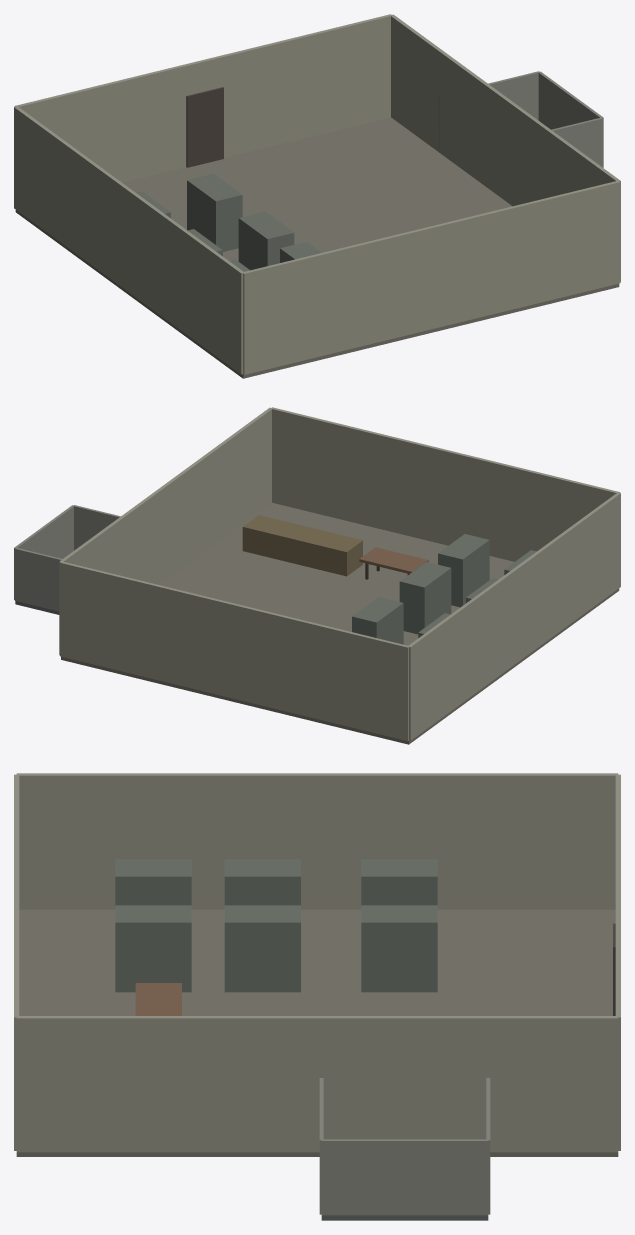
Rendered from depositoMateriales.obj.
3 renders of one model, top to bottom at view 1: azimuth 30°, elevation 25°; view 2: azimuth 150°, elevation 25°; view 3: azimuth 270°, elevation 25°, orthographic. The views are drawn at different scales.
Visible parts, largest first — view 1: Pared_de_fondo, Pared_lateral, Muro_de_entrada, Suelo, Muro_lateral, Estante_de_materiales, Barda_del_patio, Puerta_SALIDA, Barda_final_del_patio; view 2: Pared_lateral, Muro_de_entrada, Pared_de_fondo, Suelo, Muro_lateral, Estante_de_materiales, Mostrador, Barda_del_patio, Barda_final_del_patio, Mesa_de_consulta; view 3: Pared_lateral, Suelo, Muro_lateral, Estante_de_materiales, Barda_final_del_patio, Pared_de_fondo, Muro_de_entrada, Mesa_de_consulta, Barda_del_patio, Patio_de_emergencia.
Part boxes in pixels (left/top/right/bottom): Pared_de_fondo: left=242, top=180, right=620, bottom=374; Pared_lateral: left=14, top=14, right=620, bottom=374; Muro_de_entrada: left=14, top=14, right=391, bottom=182; Suelo: left=15, top=117, right=619, bottom=378; Muro_lateral: left=391, top=15, right=619, bottom=206; Estante_de_materiales: left=136, top=173, right=321, bottom=271; Barda_del_patio: left=438, top=71, right=603, bottom=167; Puerta_SALIDA: left=186, top=87, right=223, bottom=167; Barda_final_del_patio: left=538, top=71, right=603, bottom=167; Pared_lateral: left=59, top=407, right=620, bottom=740; Muro_de_entrada: left=60, top=561, right=408, bottom=740; Pared_de_fondo: left=271, top=407, right=620, bottom=561; Suelo: left=61, top=502, right=619, bottom=744; Muro_lateral: left=60, top=408, right=272, bottom=584; Estante_de_materiales: left=352, top=534, right=536, bottom=644; Mostrador: left=242, top=515, right=362, bottom=576; Barda_del_patio: left=14, top=505, right=165, bottom=611; Barda_final_del_patio: left=14, top=505, right=74, bottom=599; Mesa_de_consulta: left=359, top=547, right=428, bottom=573; Pared_lateral: left=16, top=773, right=618, bottom=1152; Suelo: left=16, top=909, right=618, bottom=1156; Muro_lateral: left=16, top=1016, right=618, bottom=1152; Estante_de_materiales: left=115, top=859, right=437, bottom=992; Barda_final_del_patio: left=321, top=1139, right=488, bottom=1215; Pared_de_fondo: left=14, top=774, right=19, bottom=1150; Muro_de_entrada: left=615, top=774, right=620, bottom=1150; Mesa_de_consulta: left=135, top=983, right=181, bottom=1015; Barda_del_patio: left=319, top=1078, right=490, bottom=1214; Patio_de_emergencia: left=321, top=1215, right=488, bottom=1220.
Size of the model in its own units: 26.68 by 5.64 by 22.2.
